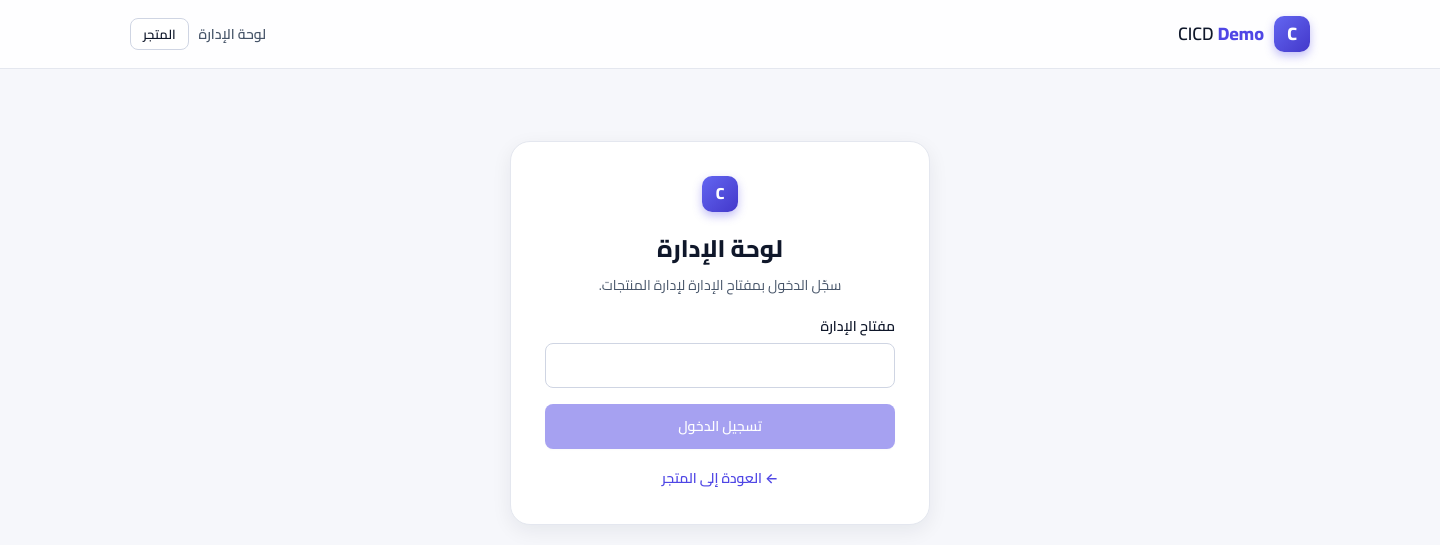
AdminPage › shows the product table after a valid login and remembers the key
Type "good-key" into the password field labelled "مفتاح الإدارة" at (720, 365), box [545,343,895,388]
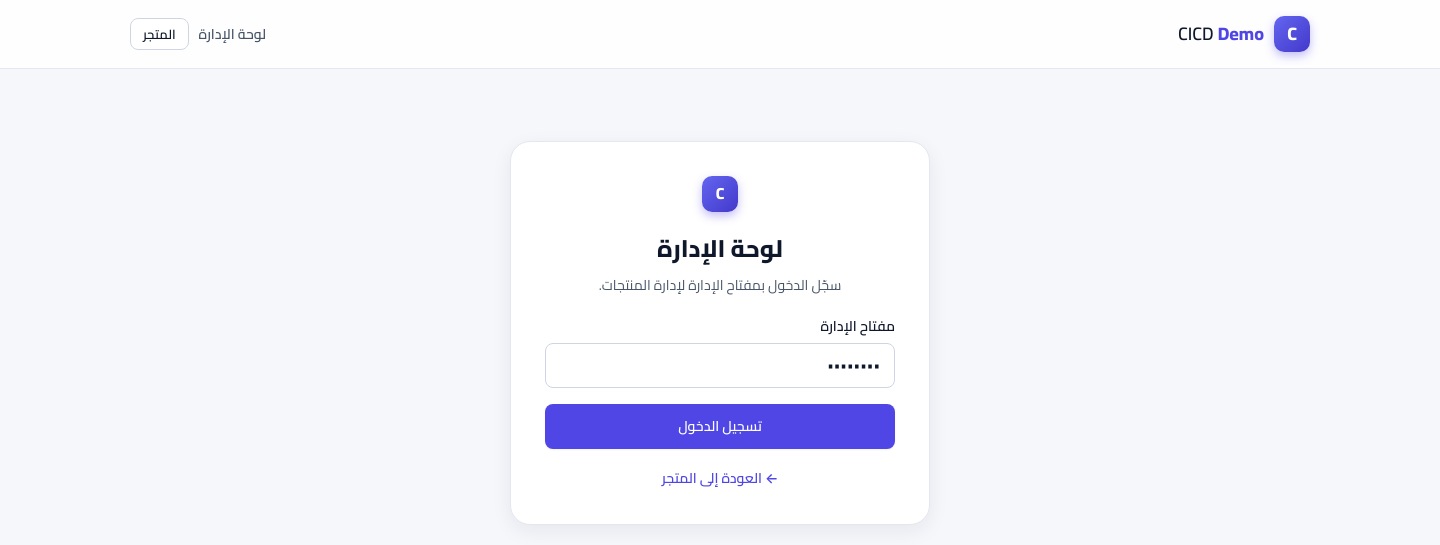
Submit the form, box [510,141,930,524]
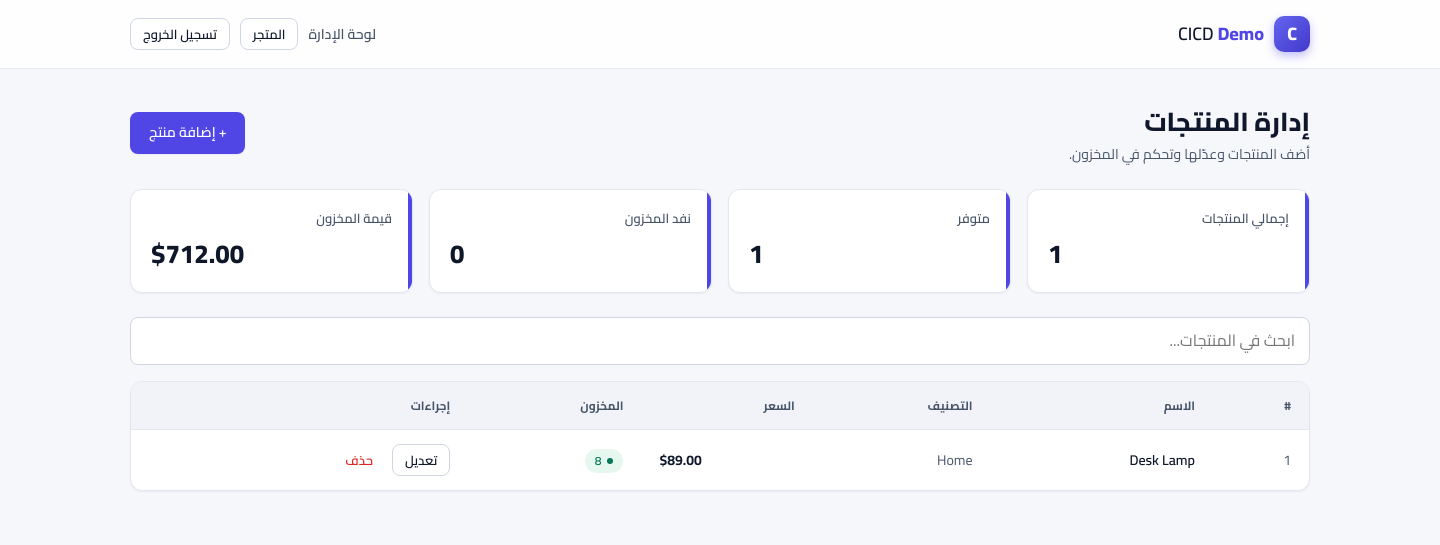
Expected: the table shows "Desk Lamp", [1129,447,1195,473]
Expected: the element with class "stats-grid" shows "712", [151,229,244,278]
